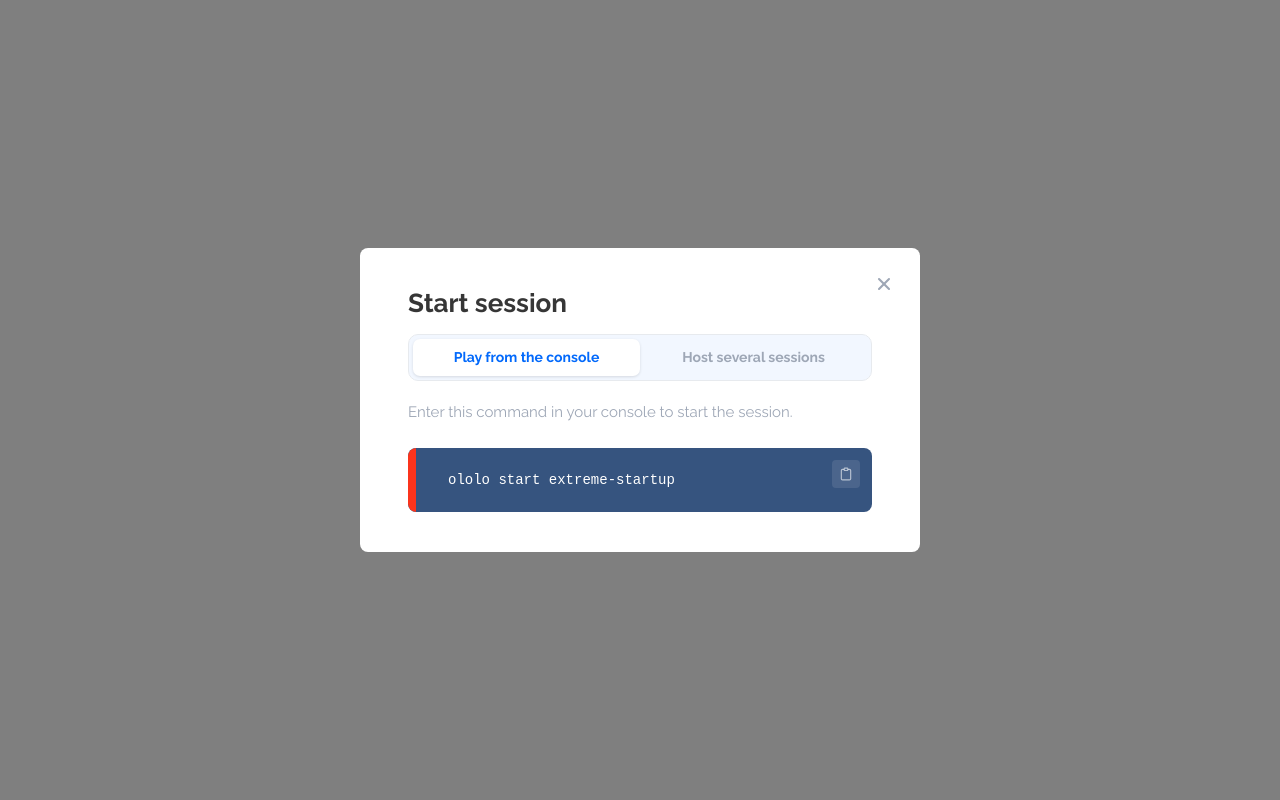
StartSessionPopup › copies every join command at once
The image size is (1280, 800).
What coordinates should you click on to do the following:
click the tab "Host several sessions"
I would click on:
 (754, 358)
Its box is [640,339,867,376].
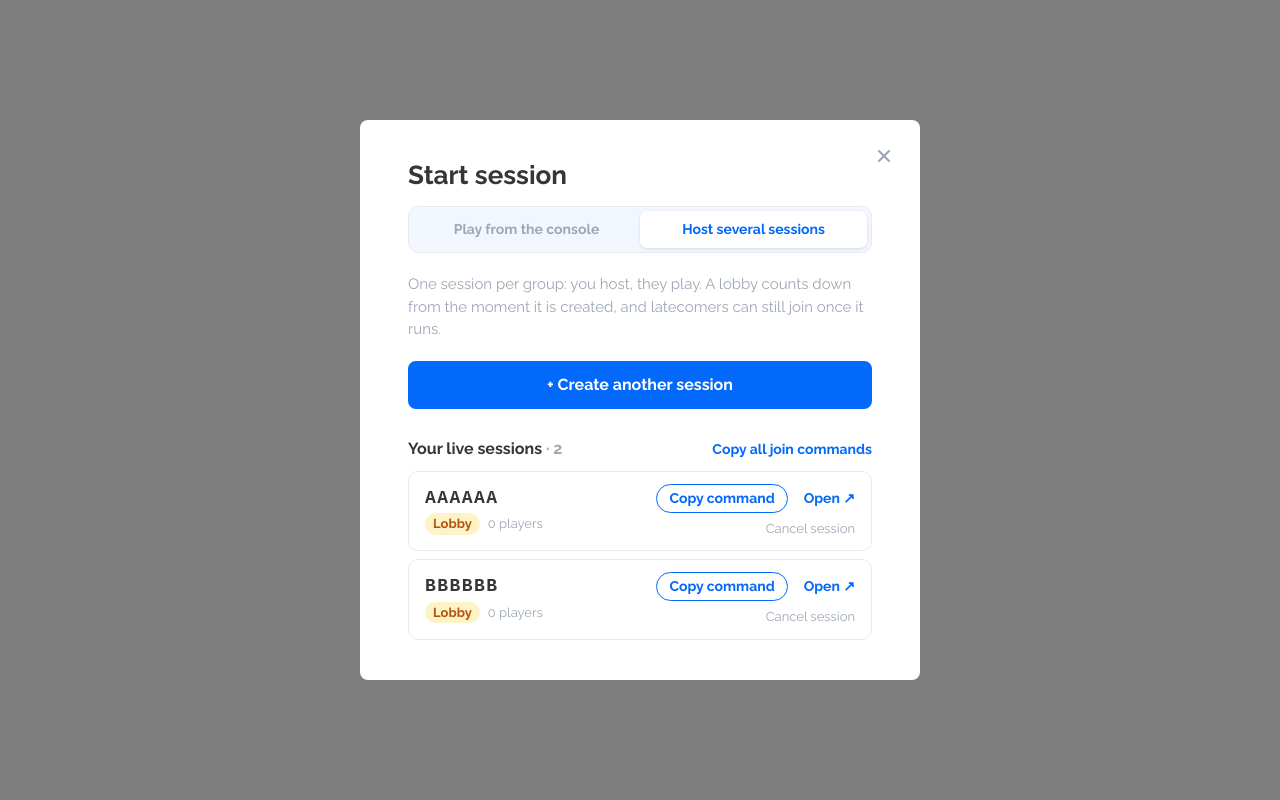
What coordinates should you click on to do the following:
click the button "Copy all join commands"
I would click on:
 (792, 449)
Its box is [712,439,872,460].
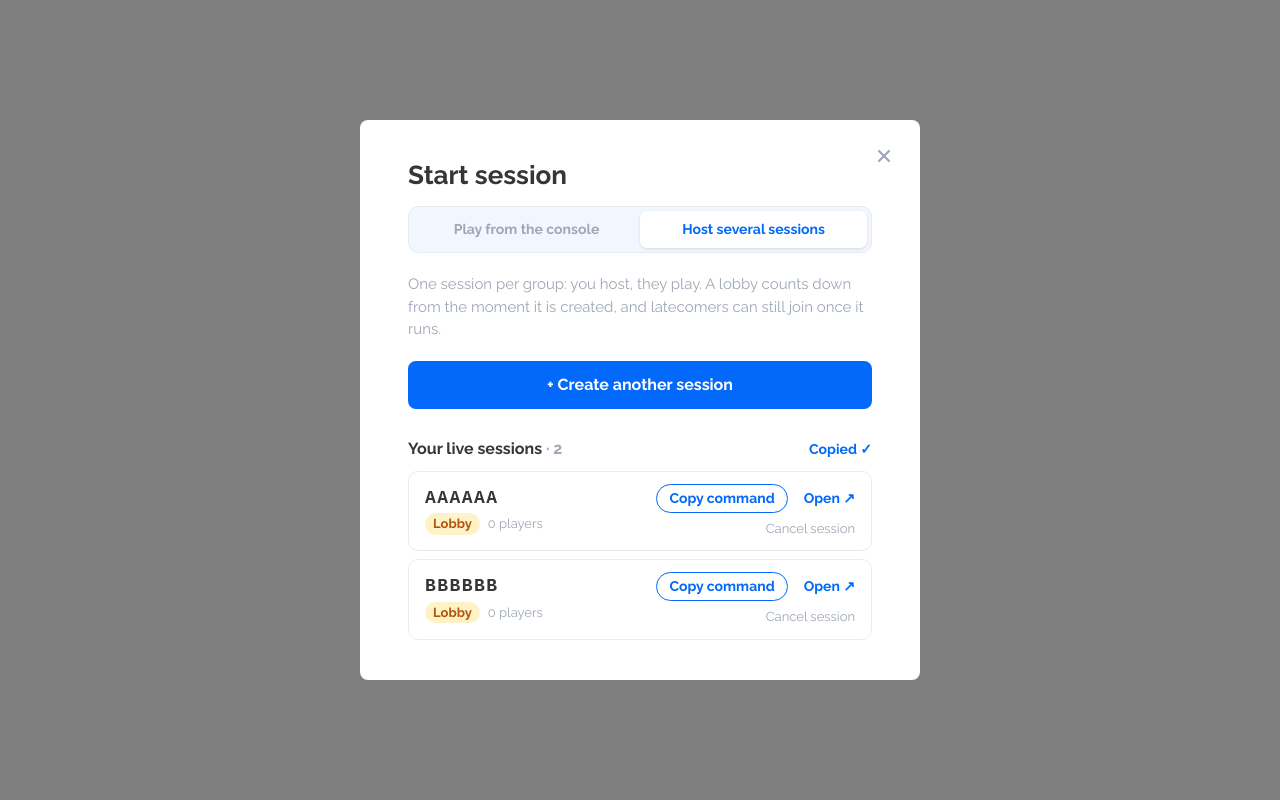
Now the button "Copied ✓" is shown, box [809,439,872,460]
